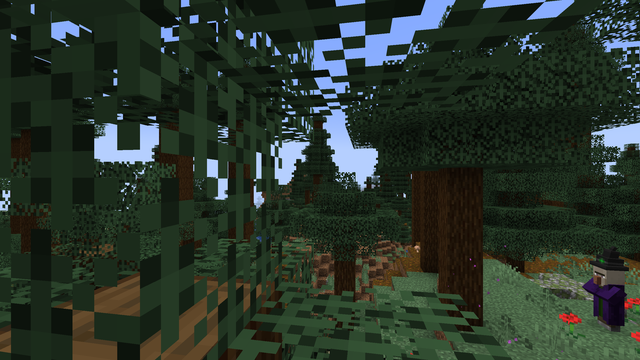sorcieres: (589, 261, 629, 333)
